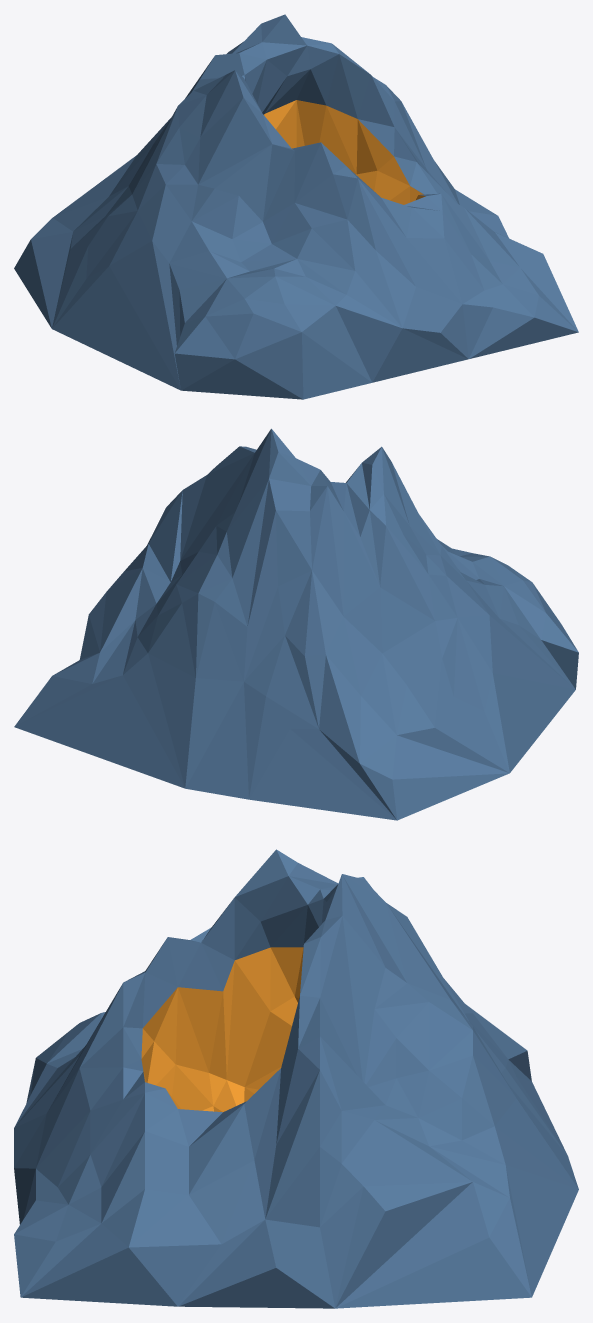
File: AW_Mountain.fbx
3 renders of one model, top to bottom at view 1: azimuth 30°, elevation 25°; view 2: azimuth 150°, elevation 25°; view 3: azimuth 270°, elevation 25°, orthographic. The views are drawn at different scales.
Visible parts, largest first — view 1: AW_Mountain; view 2: AW_Mountain; view 3: AW_Mountain.
Boxes of the visible parts, x1,y1,x2,y2 form: AW_Mountain: (14,14,578,399); AW_Mountain: (14,428,578,820); AW_Mountain: (14,849,578,1308).
Size of the model in its own units: 420 by 255 by 401.
Materials: 1 (1 with a texture image).
